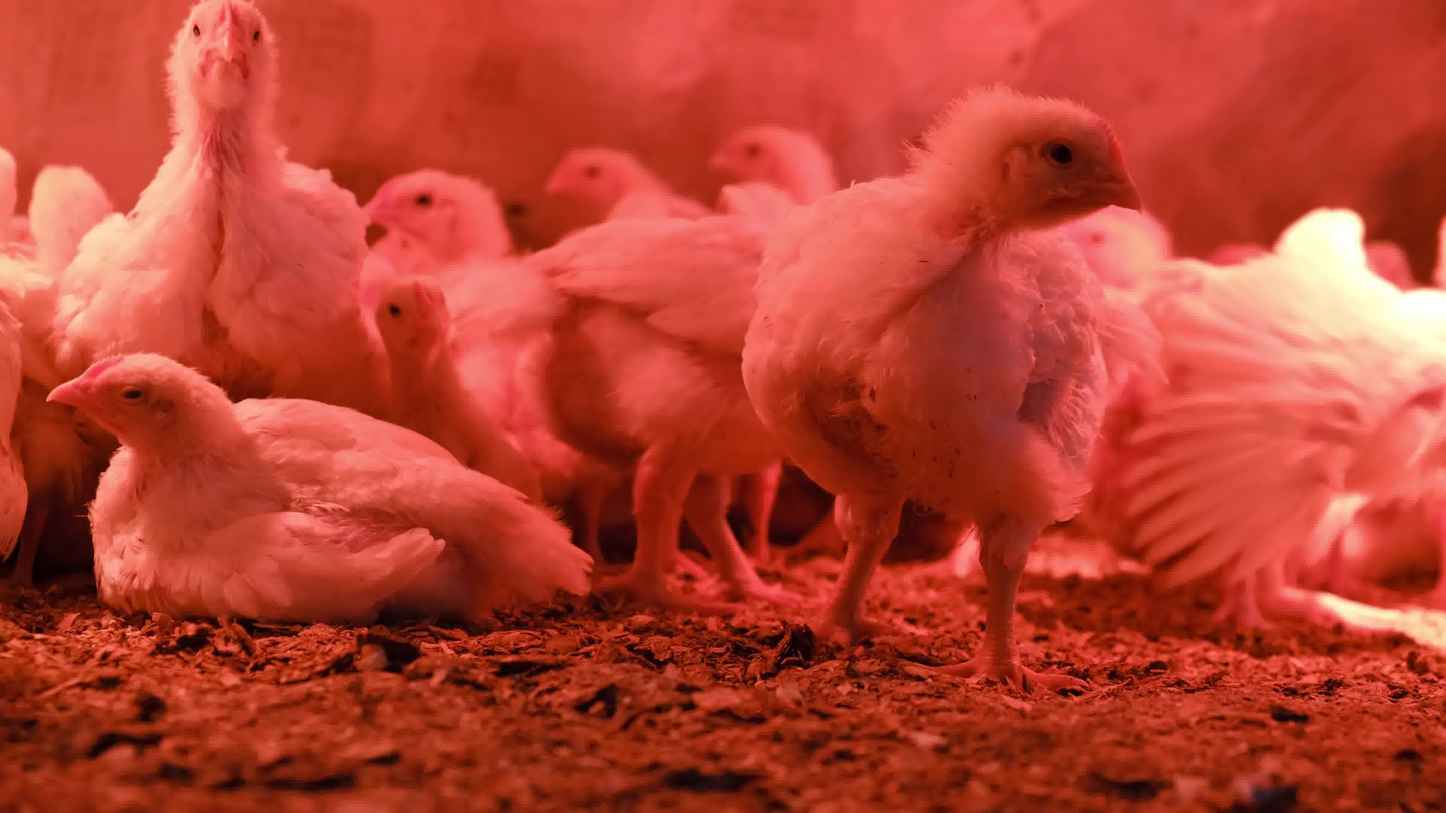AbNormal: (38, 344, 586, 610)
Normal: (772, 83, 1171, 691), (1152, 216, 1446, 630), (525, 205, 791, 614), (111, 0, 377, 367), (333, 273, 520, 469), (346, 156, 544, 280), (544, 143, 693, 258), (687, 111, 825, 216)
